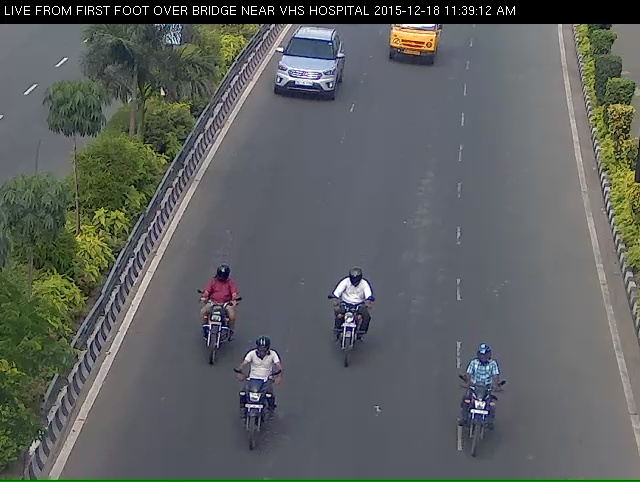Car: (261, 38, 348, 118), (377, 22, 454, 77)
Person: (218, 378, 279, 480), (453, 380, 511, 480), (319, 291, 372, 398), (182, 294, 221, 399)
